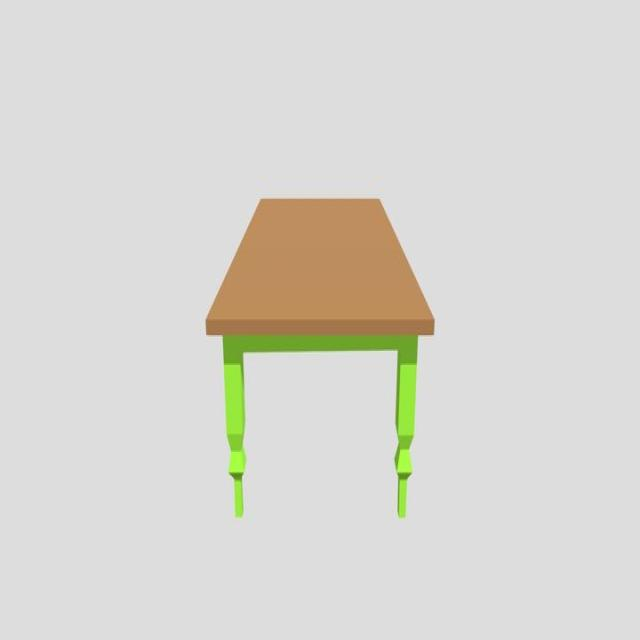table: (205, 197, 434, 516)
